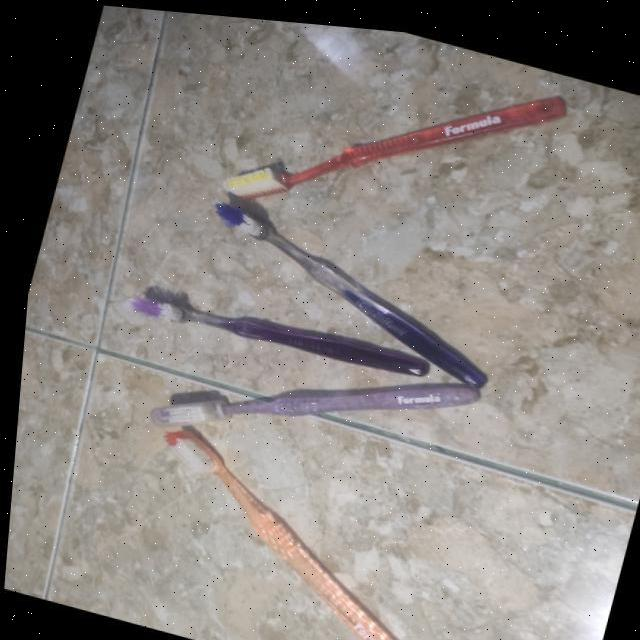toothbrush: (0, 224, 164, 640), (393, 310, 451, 640)
